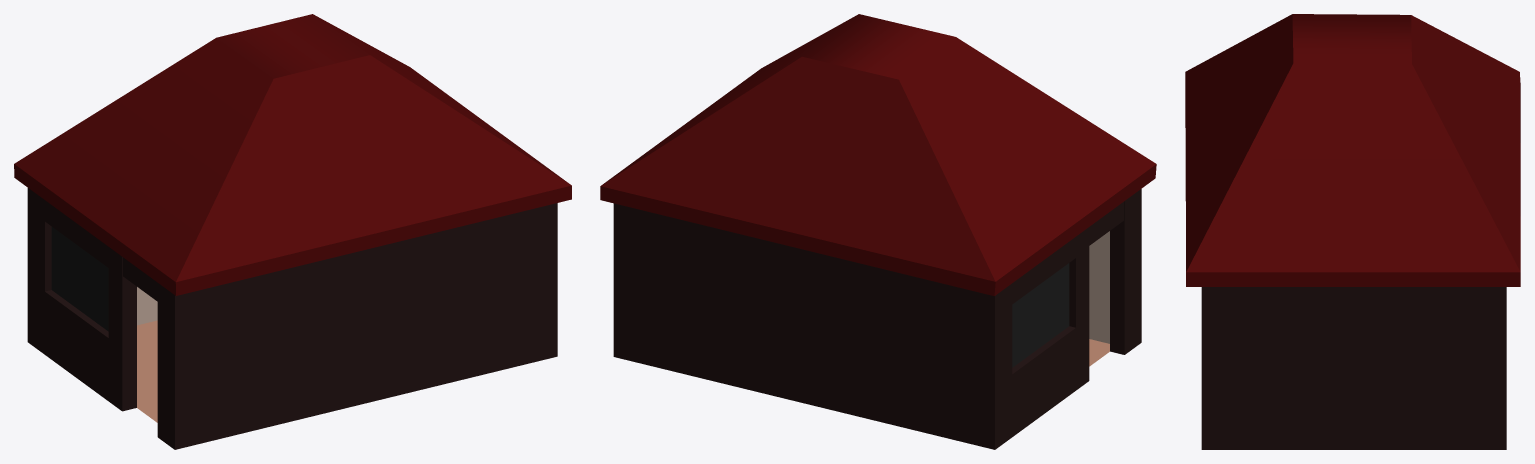
File: tabakladen_floor.dae
The picture shows the model from 3 angles, left to right: view 1: azimuth 30°, elevation 25°; view 2: azimuth 150°, elevation 25°; view 3: azimuth 270°, elevation 25°; orthographic projection. The views are drawn at different scales.
Visible parts, largest first — view 1: roof, house, window2, pCube2; view 2: roof, house, window2, pCube2; view 3: roof, house.
Part boxes in pixels (box(x1,y1,x2,y2)): roof: box(14, 14, 571, 295); house: box(27, 188, 557, 449); window2: box(51, 227, 108, 331); pCube2: box(123, 257, 157, 301); roof: box(600, 14, 1156, 296); house: box(613, 189, 1141, 449); window2: box(1012, 263, 1069, 367); pCube2: box(1089, 202, 1123, 245); roof: box(1185, 14, 1520, 286); house: box(1201, 287, 1506, 449).
Size of the model in its own units: 6.21 by 4.56 by 4.4.
